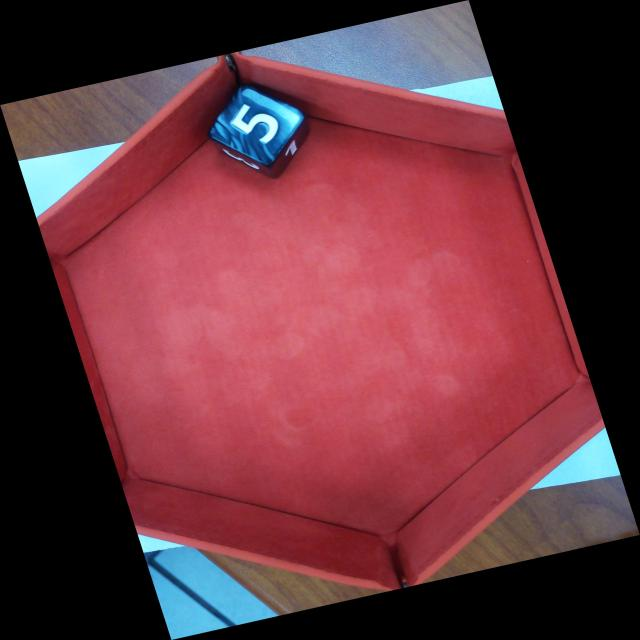dice: (214, 89, 301, 160)
